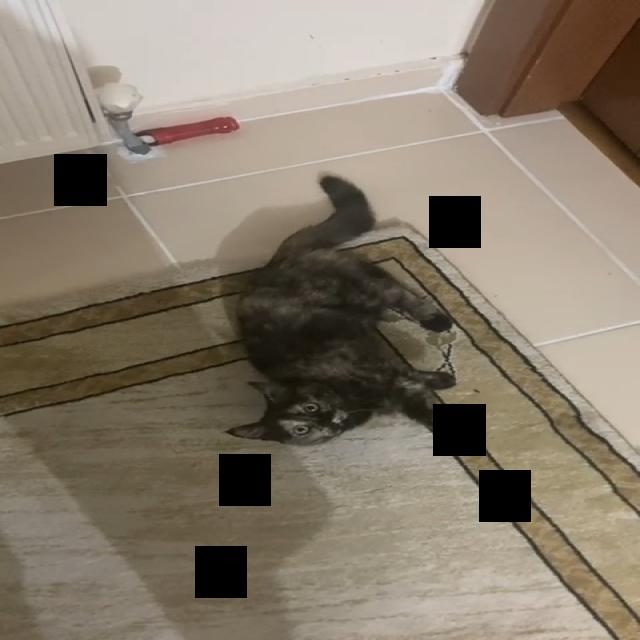authorized: (223, 172, 472, 446)
